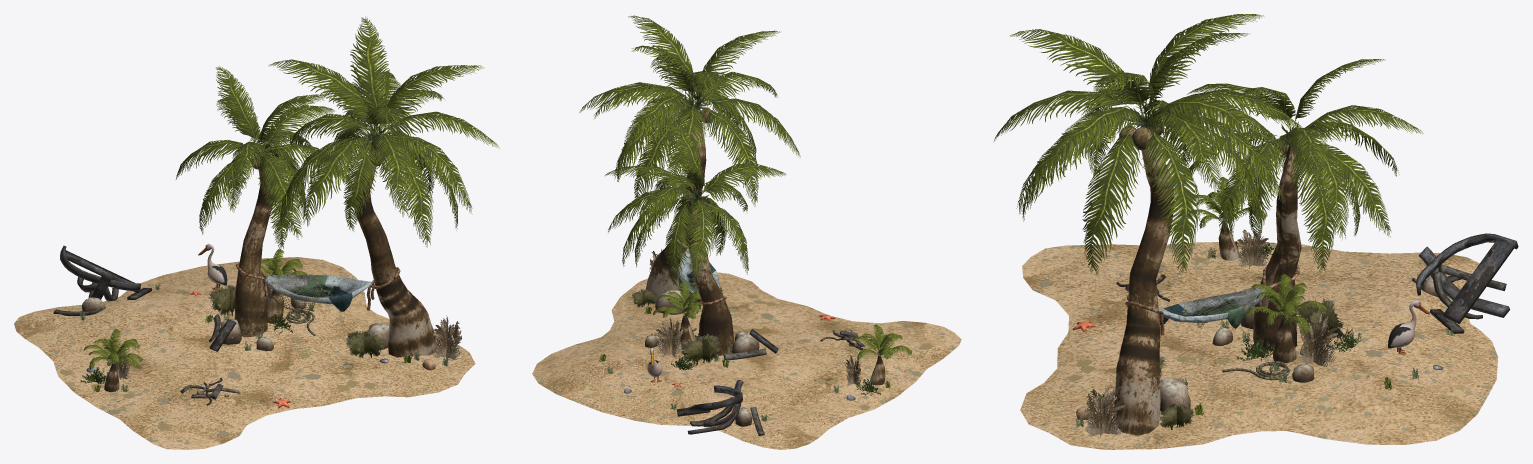
3 views of the same model, side by side, from view 1: azimuth 30°, elevation 25°; view 2: azimuth 150°, elevation 25°; view 3: azimuth 270°, elevation 25° (orthographic). The views are drawn at different scales.
Visible parts, largest first — view 1: Base, Foliage, Trees, Hammock, Boat, Rocks, Net, Debris, Pelican, Campfire; view 2: Base, Foliage, Trees, Boat, Rocks, Hammock; view 3: Base, Foliage, Trees, Boat, Hammock, Rocks, Pelican, Net, Debris.
Part boxes in pixels (x1,y1,x2,y2): Base: [14, 257, 475, 449]; Foliage: [80, 16, 499, 391]; Trees: [104, 142, 437, 391]; Hammock: [235, 263, 400, 311]; Boat: [53, 245, 236, 351]; Rocks: [82, 135, 435, 397]; Net: [268, 274, 337, 319]; Debris: [86, 291, 388, 408]; Pelican: [198, 243, 227, 290]; Campfire: [180, 378, 240, 405]; Base: [532, 272, 961, 449]; Foliage: [579, 15, 912, 421]; Trees: [645, 109, 885, 385]; Boat: [677, 329, 778, 435]; Rocks: [645, 106, 856, 426]; Hammock: [672, 229, 726, 304]; Base: [1020, 241, 1498, 449]; Foliage: [994, 14, 1455, 437]; Trees: [1114, 145, 1301, 435]; Boat: [1297, 233, 1518, 333]; Hammock: [1125, 265, 1299, 335]; Rocks: [1076, 124, 1447, 419]; Pelican: [1388, 300, 1429, 355]; Net: [1182, 287, 1255, 327]; Debris: [1072, 320, 1443, 392].
Bounding box in the file's own units: 972 × 785 × 969.
5 materials, 5 textured.
